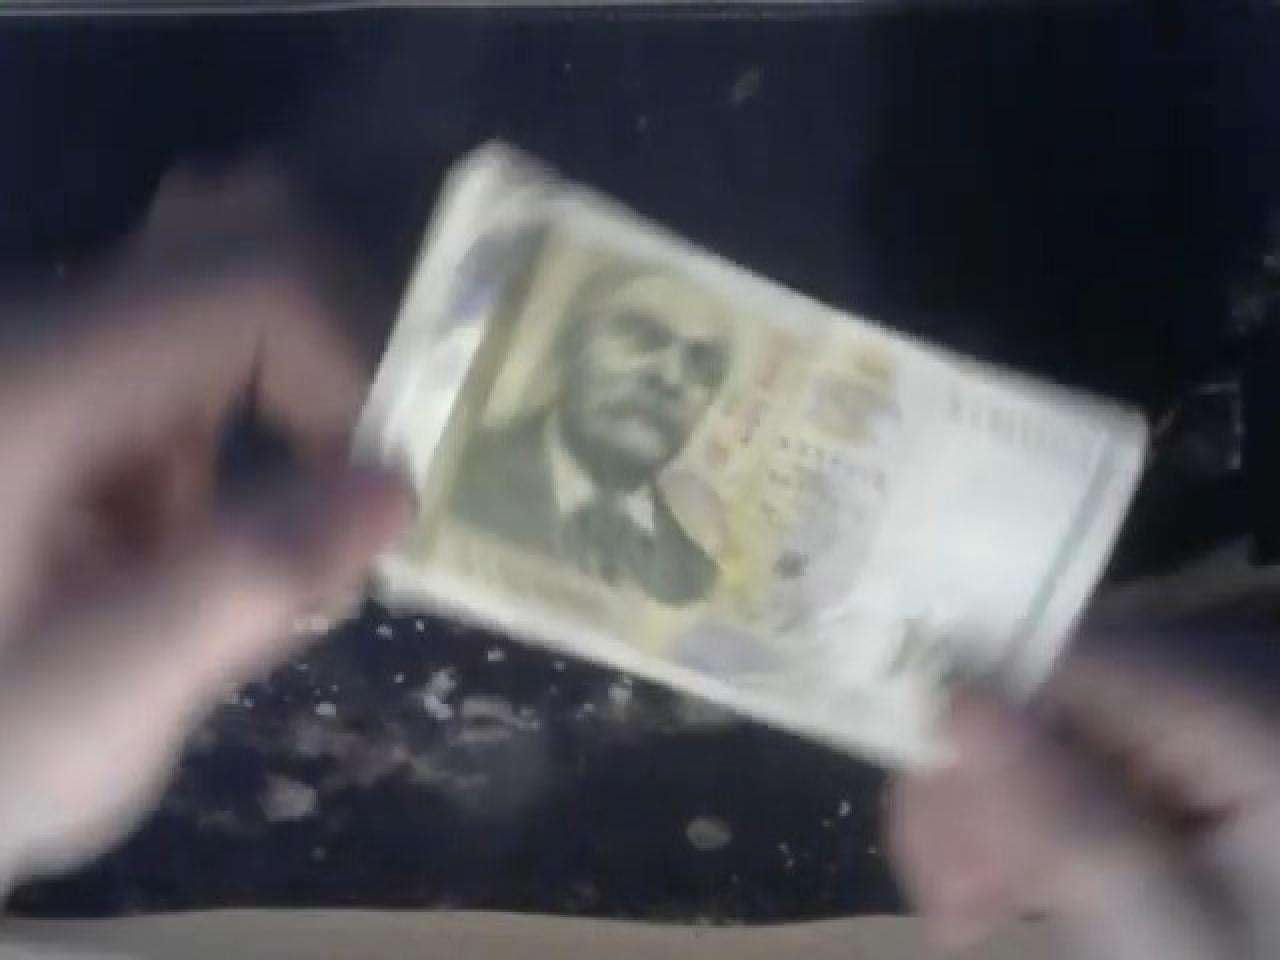10leva: (350, 131, 1158, 773)
